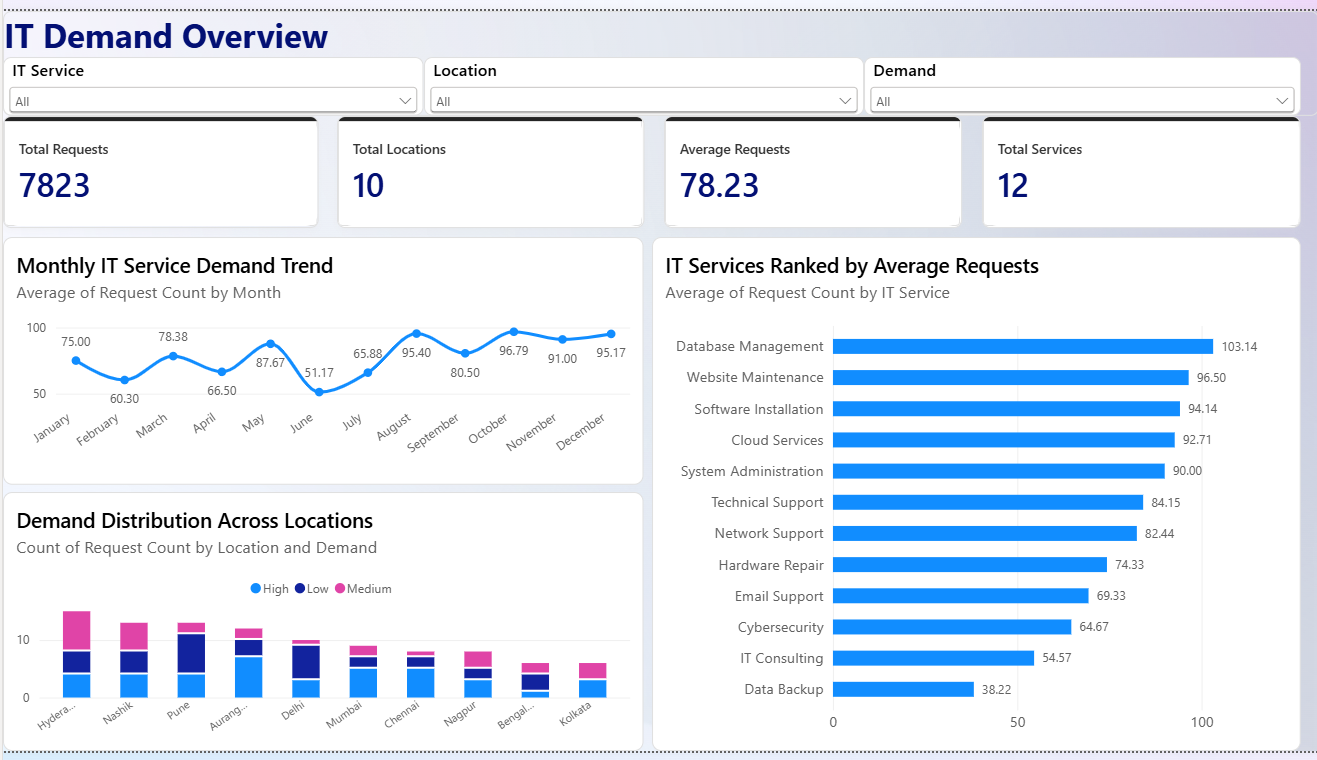

What the dashboard file says about the page in this screenshot:
{"tool":"powerbi","page":{"name":"Page 1","canvas":[1280,720],"ordinal":0},"visuals":[{"type":"cardVisual","fields":{"Data":["it_service_demand_100_rows (1).Total Requests"]},"box":[0,102.1,307.4,108.9],"z":0},{"type":"cardVisual","fields":{"Data":["it_service_demand_100_rows (1).Total Services"]},"box":[952.2,102.1,310.3,108.9],"z":1000},{"type":"cardVisual","fields":{"Data":["it_service_demand_100_rows (1).Average Requests"]},"box":[642.9,102.1,289.8,108.9],"z":2000},{"type":"cardVisual","fields":{"Data":["it_service_demand_100_rows (1).Total Locations"]},"box":[324.9,102.1,298.6,108.9],"z":3000},{"type":"textbox","box":[0,0,1280,102.1],"z":4000},{"type":"lineChart","title":"Monthly IT Service Demand Trend","fields":{"Category":["it_service_demand_100_rows (1).Date.Variation.Date Hierarchy.Month"],"Y":["Avg(it_service_demand_100_rows (1).Request Count)"]},"box":[0,219.8,623.5,241.2],"z":5000},{"type":"clusteredBarChart","title":"IT Services Ranked by Average Requests","fields":{"Category":["it_service_demand_100_rows (1).IT Service"],"Y":["Avg(it_service_demand_100_rows (1).Request Count)"]},"box":[631.2,219.8,631.2,499.9],"z":6000},{"type":"columnChart","title":"Demand Distribution Across Locations","fields":{"Category":["it_service_demand_100_rows (1).Location"],"Series":["it_service_demand_100_rows (1).Demand"],"Y":["CountNonNull(it_service_demand_100_rows (1).Request Count)"]},"box":[0,467.8,623.5,251.9],"z":7000},{"type":"slicer","fields":{"Values":["it_service_demand_100_rows (1).IT Service"]},"box":[0,44.7,409.5,57.4],"z":8000},{"type":"slicer","fields":{"Values":["it_service_demand_100_rows (1).Location"]},"box":[409.5,44.7,428,57.4],"z":9000},{"type":"slicer","fields":{"Values":["it_service_demand_100_rows (1).Demand"]},"box":[837.4,44.7,425,57.4],"z":10000}]}

Visuals, with their boxes in screenshot pixels (x1, y1, x2, y2), scaled from the page's 1280x720 canvas onto the 1317x760 screenshot:
cardVisual - it_service_demand_100_rows (1).Total Requests: (left=0, top=108, right=316, bottom=223)
cardVisual - it_service_demand_100_rows (1).Total Services: (left=980, top=108, right=1299, bottom=223)
cardVisual - it_service_demand_100_rows (1).Average Requests: (left=661, top=108, right=960, bottom=223)
cardVisual - it_service_demand_100_rows (1).Total Locations: (left=334, top=108, right=642, bottom=223)
textbox: (left=0, top=0, right=1316, bottom=108)
"Monthly IT Service Demand Trend" lineChart: (left=0, top=232, right=642, bottom=487)
"IT Services Ranked by Average Requests" clusteredBarChart: (left=649, top=232, right=1299, bottom=759)
"Demand Distribution Across Locations" columnChart: (left=0, top=494, right=642, bottom=759)
slicer - it_service_demand_100_rows (1).IT Service: (left=0, top=47, right=421, bottom=108)
slicer - it_service_demand_100_rows (1).Location: (left=421, top=47, right=862, bottom=108)
slicer - it_service_demand_100_rows (1).Demand: (left=862, top=47, right=1299, bottom=108)
